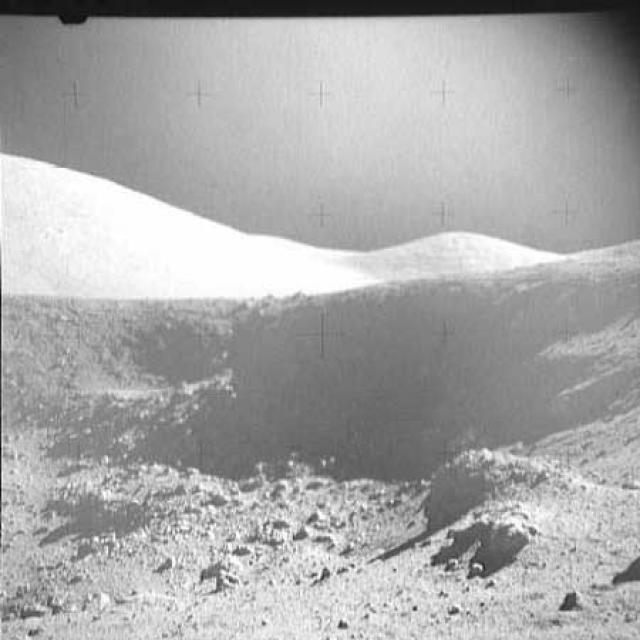rock: (421, 439, 559, 531), (433, 506, 495, 546), (194, 552, 246, 596), (493, 516, 541, 554), (603, 533, 639, 583)
